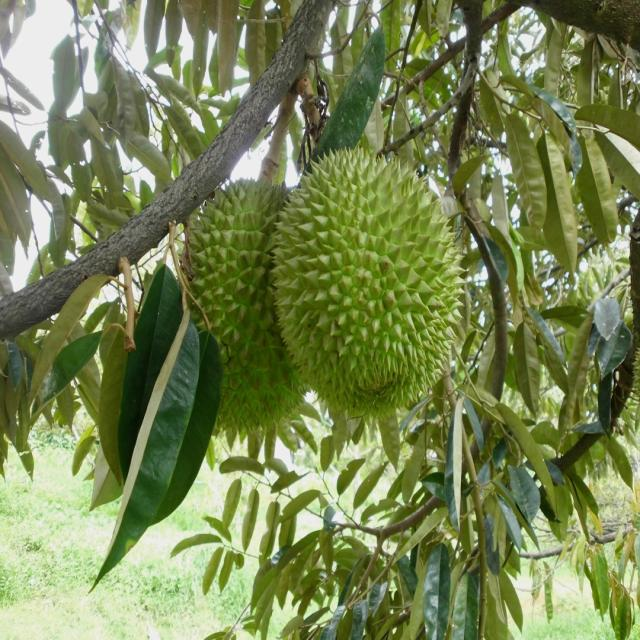immature: (268, 146, 466, 420), (178, 176, 302, 446)
